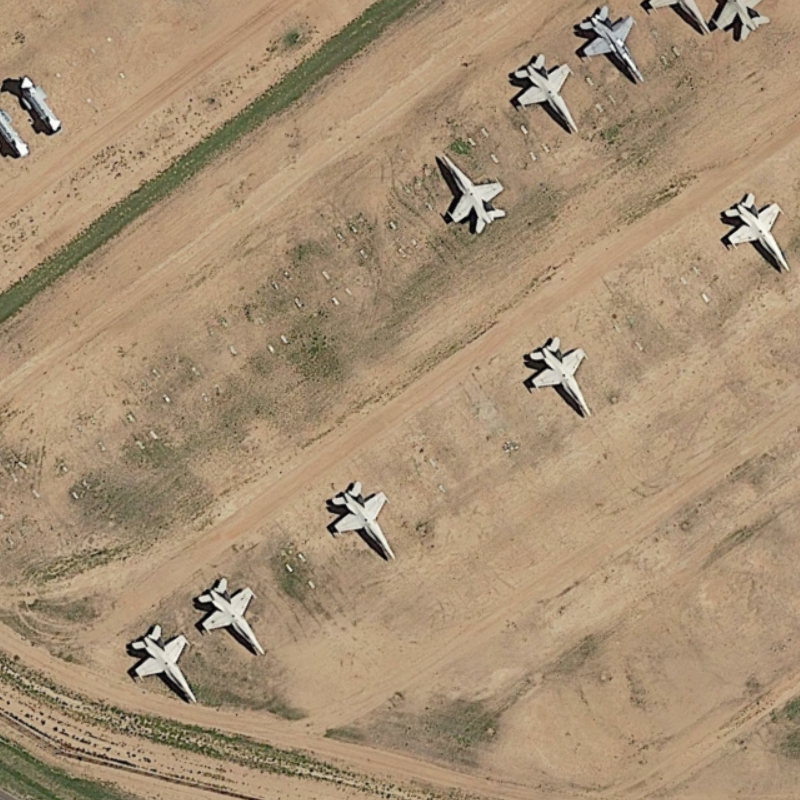A16: (427, 144, 513, 240), (186, 574, 273, 666), (515, 333, 598, 428), (715, 187, 797, 282), (324, 478, 406, 566), (116, 624, 201, 708), (576, 5, 649, 92), (508, 50, 580, 133)
